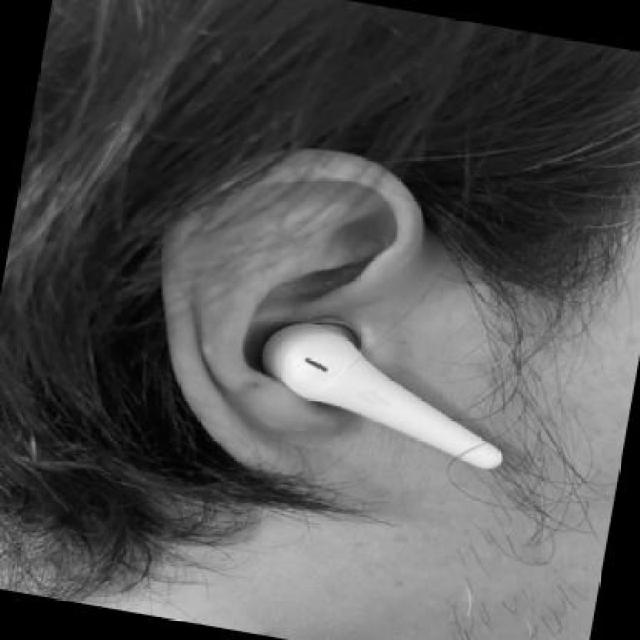earphone: (234, 312, 562, 524)
